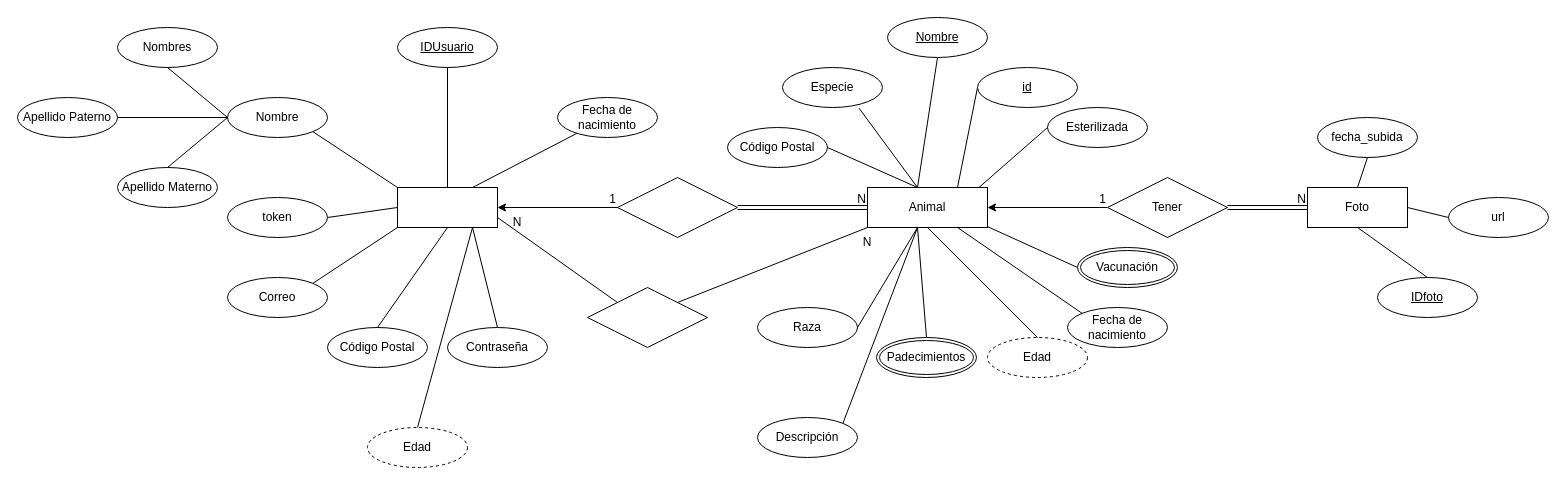
This 1566x485 diagram has some shape labels left out. Here are the shapes that lost their labels. From the top down, the centre of each, then its label:
At point (447, 207): "Usuario".
At point (677, 207): "Registrar".
At point (647, 317): "interesar".
